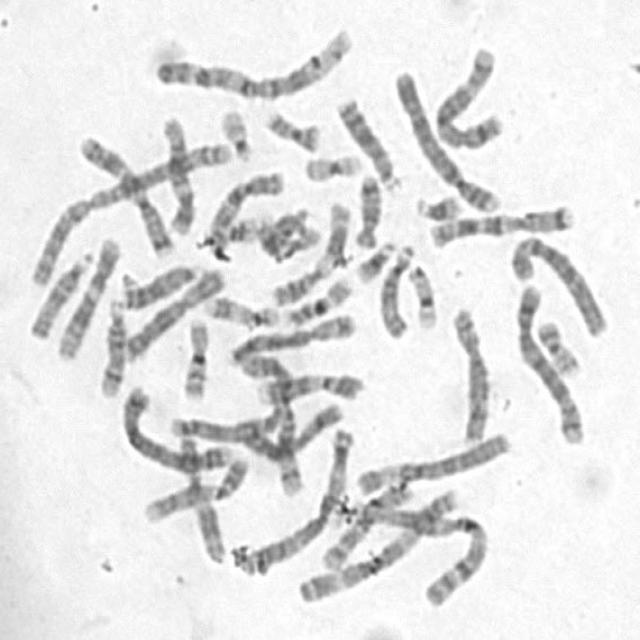A1: (337, 484, 492, 610), (148, 19, 356, 101)
A2: (21, 131, 238, 288), (164, 353, 296, 442)
A3: (290, 480, 462, 607), (231, 418, 356, 576)
B4: (386, 60, 504, 214), (113, 376, 236, 475)
B5: (509, 274, 588, 446), (427, 36, 506, 152)
C10: (314, 471, 416, 573), (200, 162, 286, 248)
C11: (265, 192, 355, 308), (168, 420, 229, 566)
C12: (49, 227, 122, 361), (155, 107, 198, 236)
C6: (503, 226, 611, 340), (348, 423, 513, 496)
C7: (71, 124, 176, 260), (422, 196, 577, 248)
C8: (222, 303, 358, 367), (443, 297, 493, 447)
C9: (137, 448, 253, 524), (250, 364, 366, 406)
D13: (329, 88, 404, 193), (114, 255, 204, 312)
D14: (268, 392, 306, 500), (91, 290, 128, 400)
D15: (21, 241, 96, 342), (372, 235, 417, 341)
E16: (277, 266, 355, 328), (175, 309, 212, 402)
E17: (200, 286, 282, 330)
E18: (348, 164, 384, 250), (258, 205, 312, 258)
F19: (401, 255, 440, 332), (295, 143, 365, 183)
F20: (256, 98, 322, 153), (531, 312, 584, 378)
G21: (348, 231, 399, 285), (408, 186, 463, 222)
G22: (212, 98, 256, 162), (223, 208, 274, 246)
X: (114, 258, 228, 364), (233, 393, 346, 462)
